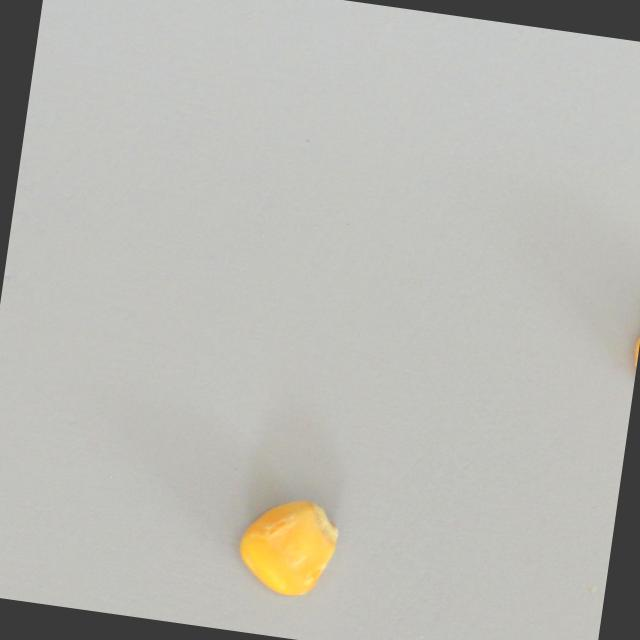no_desgerminado: (231, 487, 347, 603)
